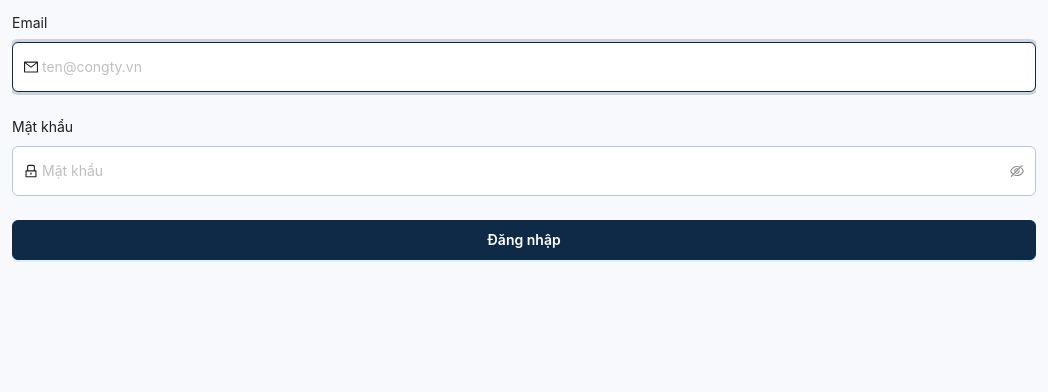
LoginForm › surfaces a friendly Vietnamese message for invalid credentials
Type "admin@example.com" into the field labelled "Email" at (533, 67), box [42,47,1024,87]
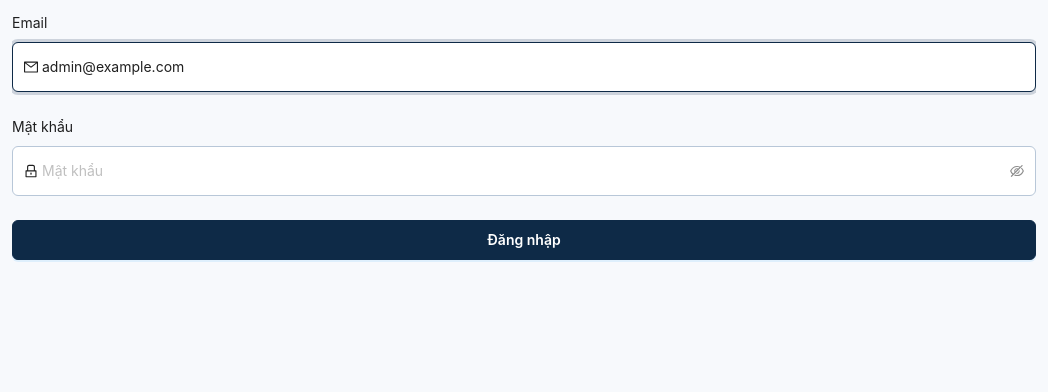
Type "wrong-password" into the password field labelled "Mật khẩu" at (524, 171), box [42,151,1006,191]
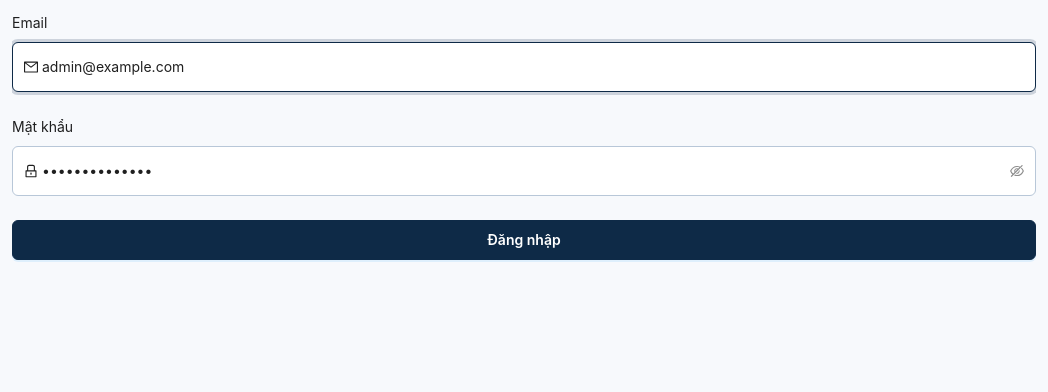
Click the button "Đăng nhập" at (524, 240), box [12,220,1036,260]
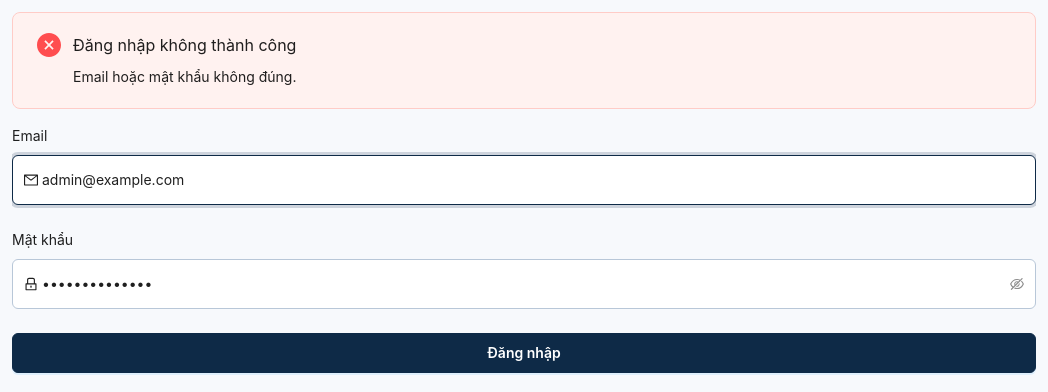
Expected: the text "Email hoặc mật khẩu không đúng." is shown, [73,68,296,85]
